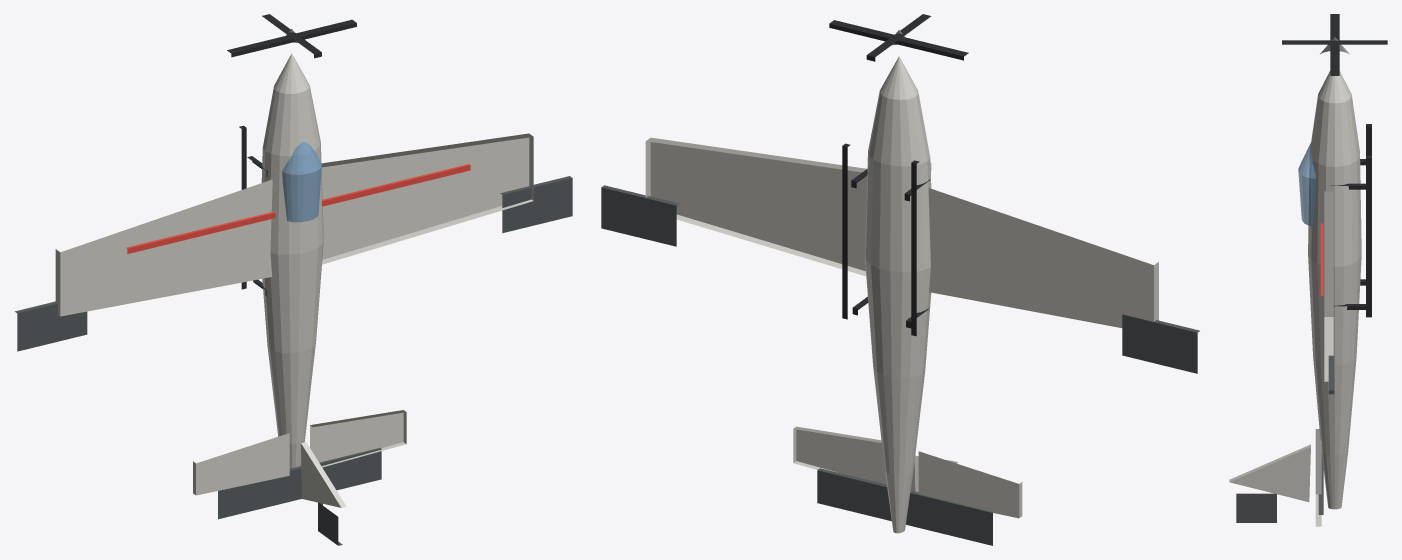
Rendered from generic_fixed_wing_smooth.glb.
The picture shows the model from 3 angles, left to right: view 1: azimuth 30°, elevation 25°; view 2: azimuth 150°, elevation 25°; view 3: azimuth 270°, elevation 25°; orthographic projection. The views are drawn at different scales.
Parts seen in each view (by area): view 1: main_wing, fuselage, horizontal_tail, elevator_surface, aileron_left_surface, canopy, aileron_right_surface, red_wing_trim, vertical_stabilizer, propeller; view 2: main_wing, fuselage, horizontal_tail, elevator_surface, aileron_left_surface, aileron_right_surface, landing_skid, propeller; view 3: fuselage, vertical_stabilizer, main_wing, landing_skid, rudder_surface, propeller, canopy, horizontal_tail, red_wing_trim, aileron_left_surface, elevator_surface.
Part boxes in pixels (x1,y1,x2,y2): main_wing: (55, 133, 533, 316); fuselage: (261, 53, 323, 468); horizontal_tail: (193, 410, 406, 495); elevator_surface: (218, 448, 381, 519); aileron_left_surface: (500, 176, 572, 233); canopy: (282, 141, 321, 222); aileron_right_surface: (14, 301, 87, 351); red_wing_trim: (126, 164, 470, 253); vertical_stabilizer: (301, 442, 346, 507); propeller: (227, 14, 356, 58); main_wing: (645, 137, 1158, 327); fuselage: (864, 56, 931, 533); horizontal_tail: (793, 426, 1022, 518); elevator_surface: (817, 468, 993, 545); aileron_left_surface: (601, 185, 678, 246); aileron_right_surface: (1122, 314, 1199, 373); landing_skid: (842, 143, 930, 336); propeller: (829, 14, 968, 61); fuselage: (1308, 71, 1361, 509); vertical_stabilizer: (1229, 444, 1310, 502); main_wing: (1324, 191, 1333, 381); landing_skid: (1330, 124, 1371, 317); rudder_surface: (1236, 493, 1276, 522); propeller: (1282, 14, 1387, 75); canopy: (1298, 142, 1315, 226); horizontal_tail: (1315, 429, 1321, 526); red_wing_trim: (1320, 223, 1323, 295); aileron_left_surface: (1328, 355, 1334, 394); elevator_surface: (1318, 454, 1323, 514).
Size of the model in its own units: 3.8 by 3.15 by 0.93.
